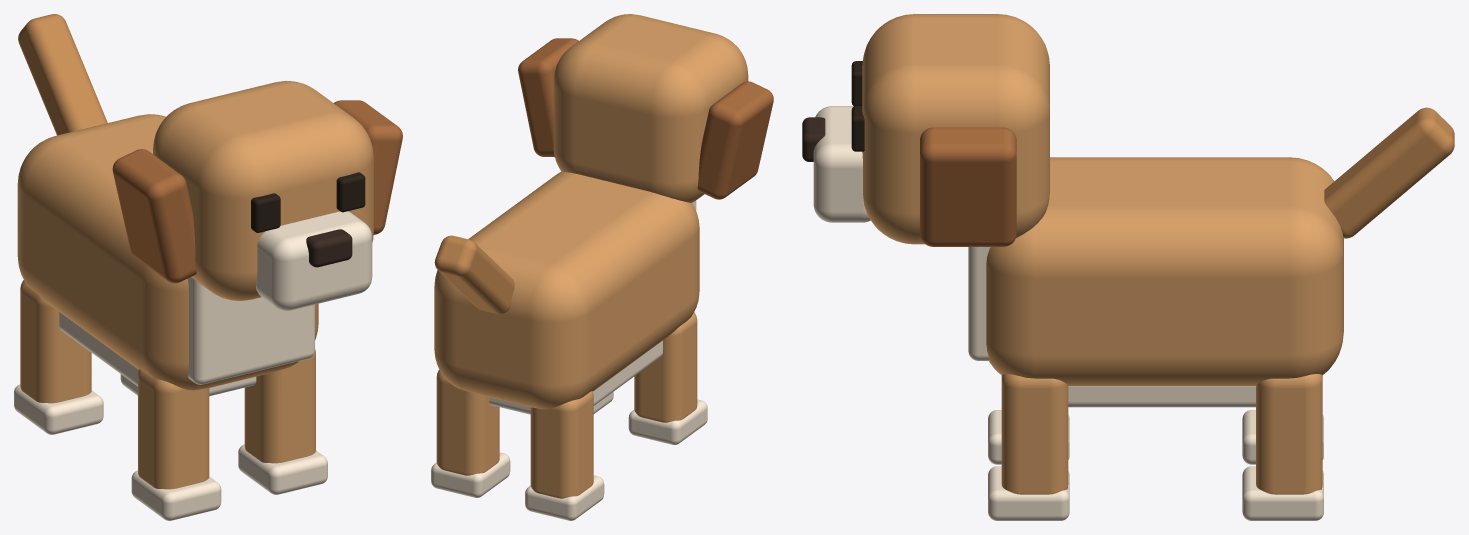
File: base-dog-standing-full.glb
The picture shows the model from 3 angles, left to right: view 1: azimuth 30°, elevation 25°; view 2: azimuth 150°, elevation 25°; view 3: azimuth 270°, elevation 25°; orthographic projection. The views are drawn at different scales.
Parts seen in each view (by area): view 1: PM_FUR_MAIN_0_76_0, PM_FUR_MAIN_0_128_68, PM_FUR_SECONDARY_0_78_58, PM_FUR_SECONDARY_0_115_104, PM_EARS_-41_126_64, PM_FUR_MAIN_-22_30_42, PM_FUR_MAIN_22_30_42, PM_TAIL_0_112_-74, PM_FUR_MAIN_-22_30_-42, PM_EARS_41_126_64, PM_FUR_SECONDARY_-22_6_44, PM_FUR_SECONDARY_-22_6_-40 (+5 smaller); view 2: PM_FUR_MAIN_0_76_0, PM_FUR_MAIN_0_128_68, PM_EARS_-41_126_64, PM_FUR_MAIN_-22_30_-42, PM_FUR_MAIN_22_30_-42, PM_FUR_MAIN_-22_30_42, PM_TAIL_0_112_-74, PM_EARS_41_126_64, PM_FUR_SECONDARY_-22_6_-40, PM_FUR_SECONDARY_-22_6_44, PM_FUR_SECONDARY_22_6_-40, PM_FUR_SECONDARY_0_44_0; view 3: PM_FUR_MAIN_0_76_0, PM_FUR_MAIN_0_128_68, PM_EARS_41_126_64, PM_TAIL_0_112_-74, PM_FUR_MAIN_22_30_42, PM_FUR_MAIN_22_30_-42, PM_FUR_SECONDARY_0_115_104, PM_FUR_SECONDARY_0_44_0, PM_FUR_SECONDARY_22_6_-40, PM_FUR_SECONDARY_22_6_44, PM_FUR_SECONDARY_0_78_58, PM_FUR_SECONDARY_-22_6_44 (+2 smaller).
Part boxes in pixels (x1=…): PM_FUR_MAIN_0_76_0: x1=17, y1=114, x2=318, y2=390; PM_FUR_MAIN_0_128_68: x1=153, y1=81, x2=373, y2=300; PM_FUR_SECONDARY_0_78_58: x1=188, y1=277, x2=314, y2=384; PM_FUR_SECONDARY_0_115_104: x1=256, y1=211, x2=372, y2=310; PM_EARS_-41_126_64: x1=112, y1=149, x2=196, y2=283; PM_FUR_MAIN_-22_30_42: x1=138, y1=369, x2=209, y2=489; PM_FUR_MAIN_22_30_42: x1=244, y1=349, x2=315, y2=463; PM_TAIL_0_112_-74: x1=18, y1=14, x2=107, y2=135; PM_FUR_MAIN_-22_30_-42: x1=20, y1=280, x2=91, y2=403; PM_EARS_41_126_64: x1=334, y1=100, x2=402, y2=234; PM_FUR_SECONDARY_-22_6_44: x1=131, y1=470, x2=221, y2=520; PM_FUR_SECONDARY_-22_6_-40: x1=14, y1=384, x2=103, y2=434; PM_FUR_MAIN_0_76_0: x1=434, y1=171, x2=699, y2=409; PM_FUR_MAIN_0_128_68: x1=553, y1=14, x2=748, y2=202; PM_EARS_-41_126_64: x1=697, y1=81, x2=773, y2=199; PM_FUR_MAIN_-22_30_-42: x1=530, y1=391, x2=593, y2=498; PM_FUR_MAIN_22_30_-42: x1=436, y1=369, x2=499, y2=475; PM_FUR_MAIN_-22_30_42: x1=634, y1=312, x2=697, y2=422; PM_TAIL_0_112_-74: x1=434, y1=235, x2=514, y2=314; PM_EARS_41_126_64: x1=518, y1=38, x2=578, y2=157; PM_FUR_SECONDARY_-22_6_-40: x1=525, y1=475, x2=604, y2=520; PM_FUR_SECONDARY_-22_6_44: x1=628, y1=399, x2=707, y2=444; PM_FUR_SECONDARY_22_6_-40: x1=431, y1=452, x2=510, y2=497; PM_FUR_SECONDARY_0_44_0: x1=489, y1=340, x2=662, y2=414; PM_FUR_MAIN_0_76_0: x1=986, y1=157, x2=1343, y2=385; PM_FUR_MAIN_0_128_68: x1=862, y1=14, x2=1049, y2=244; PM_EARS_41_126_64: x1=920, y1=127, x2=1016, y2=246; PM_TAIL_0_112_-74: x1=1324, y1=107, x2=1454, y2=238; PM_FUR_MAIN_22_30_42: x1=1001, y1=374, x2=1068, y2=494; PM_FUR_MAIN_22_30_-42: x1=1256, y1=374, x2=1322, y2=494; PM_FUR_SECONDARY_0_115_104: x1=813, y1=106, x2=870, y2=222; PM_FUR_SECONDARY_0_44_0: x1=1068, y1=386, x2=1255, y2=407; PM_FUR_SECONDARY_22_6_-40: x1=1242, y1=466, x2=1323, y2=520; PM_FUR_SECONDARY_22_6_44: x1=988, y1=466, x2=1069, y2=520; PM_FUR_SECONDARY_0_78_58: x1=968, y1=247, x2=990, y2=360; PM_FUR_SECONDARY_-22_6_44: x1=988, y1=410, x2=1069, y2=464.
Size of the model in its own units: 0.105 by 0.16 by 0.2155.
